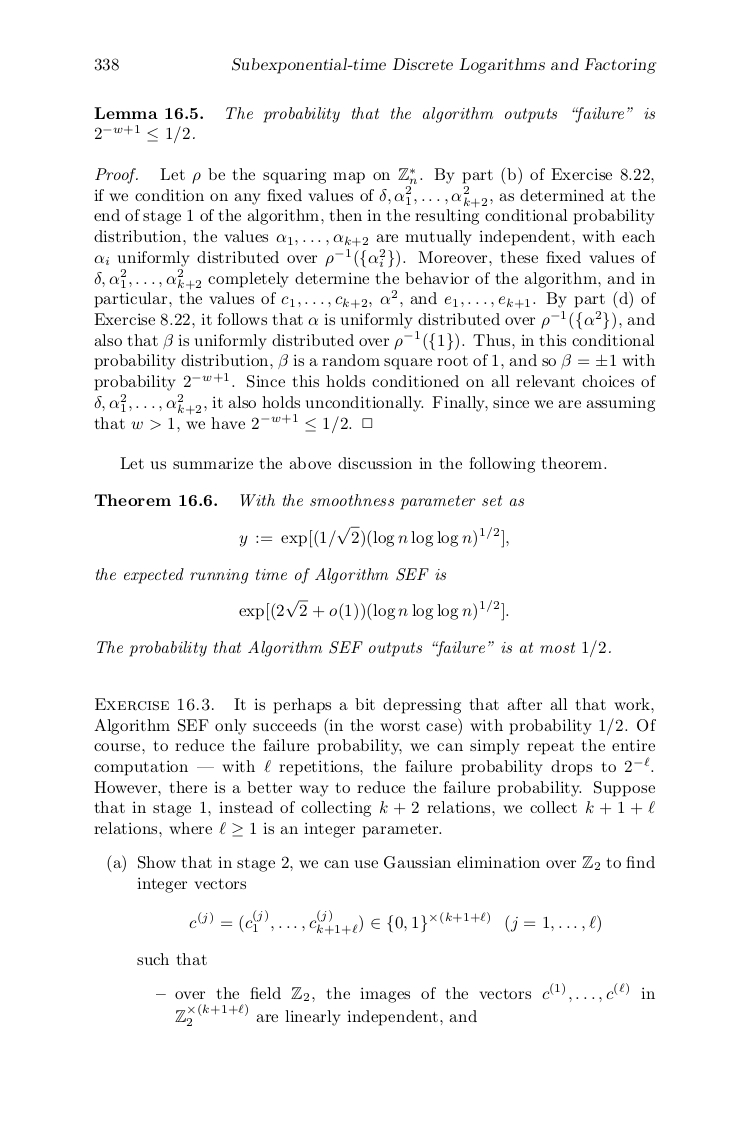formula: (189, 909, 600, 935), (239, 525, 508, 548), (239, 599, 508, 621)
